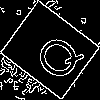Q: (25, 25, 87, 87)
